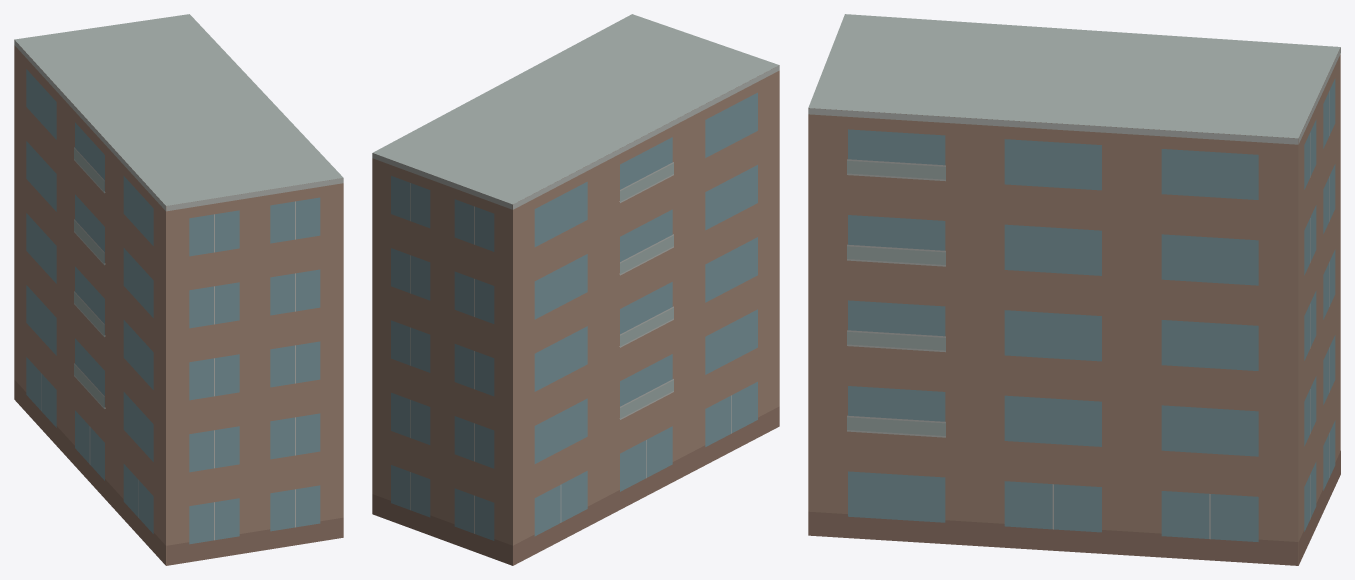
The model's file is survey-upis-32493207.glb.
The picture shows the model from 3 angles, left to right: view 1: azimuth 30°, elevation 25°; view 2: azimuth 150°, elevation 25°; view 3: azimuth 270°, elevation 25°; orthographic projection. The views are drawn at different scales.
Visible parts, largest first — view 1: survey-upis-32493207.tmp; view 2: survey-upis-32493207.tmp; view 3: survey-upis-32493207.tmp.
Boxes of the visible parts, box(x1,y1,x2,y2) form: survey-upis-32493207.tmp: box(14, 14, 343, 565); survey-upis-32493207.tmp: box(372, 14, 779, 565); survey-upis-32493207.tmp: box(808, 14, 1340, 565).
Size of the model in its own units: 10.24 by 16.4 by 18.52.
